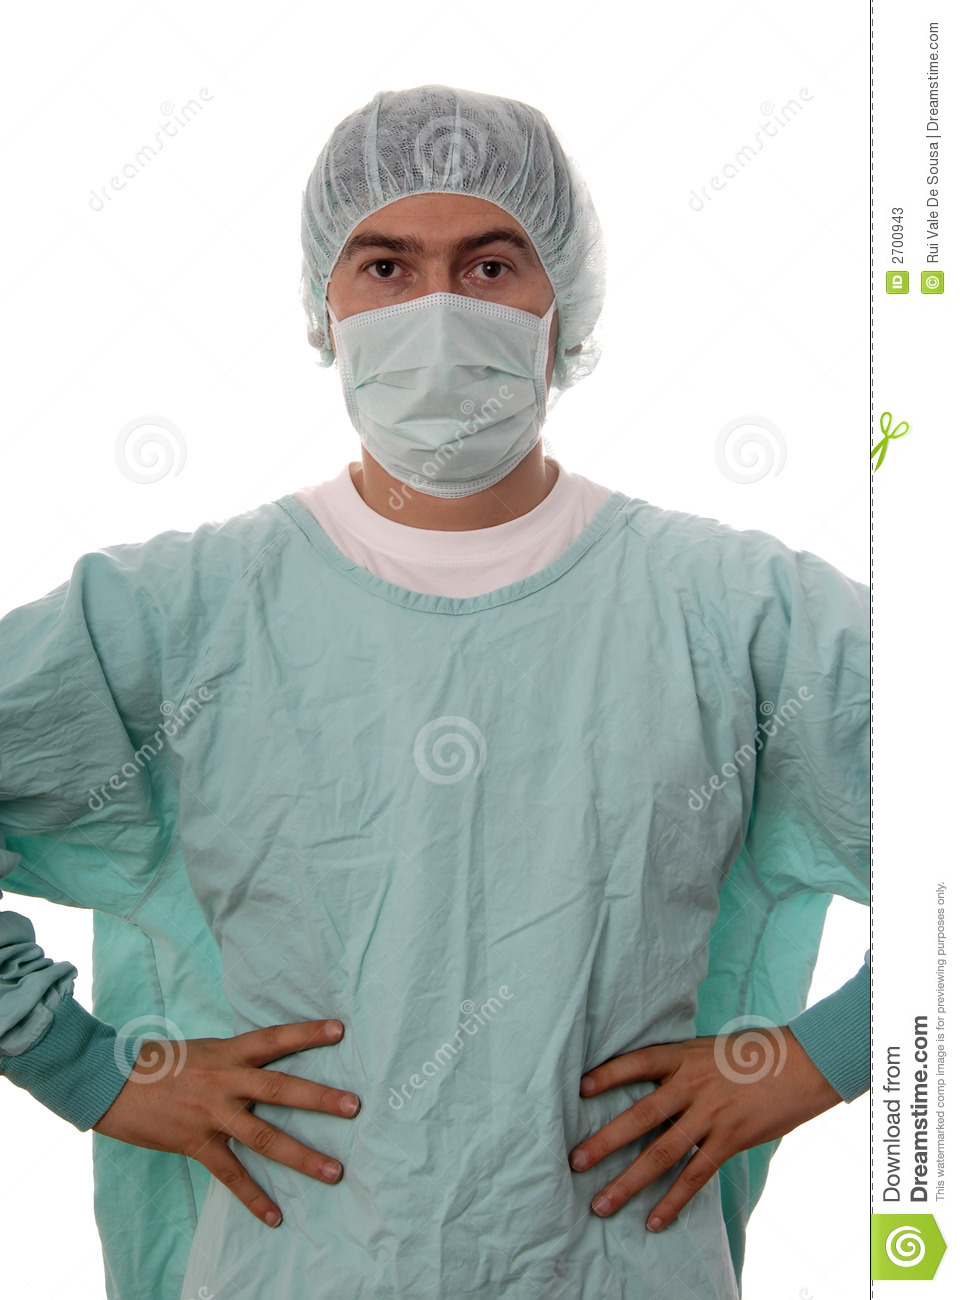mask: (330, 301, 578, 501)
